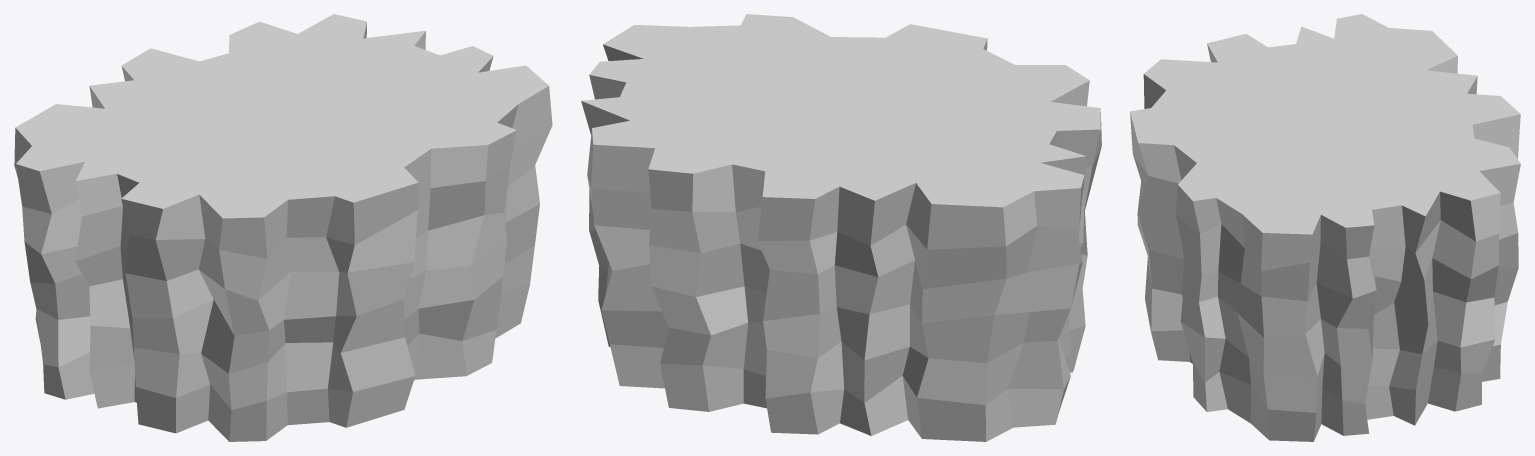
Rendered from obj_cliff.fbx.
3 renders of one model, left to right at view 1: azimuth 30°, elevation 25°; view 2: azimuth 150°, elevation 25°; view 3: azimuth 270°, elevation 25°, orthographic. The views are drawn at different scales.
Visible parts, largest first — view 1: obj_cliff; view 2: obj_cliff; view 3: obj_cliff.
Boxes of the visible parts, x1,y1,x2,y2 form: obj_cliff: (14,14,552,441); obj_cliff: (581,14,1101,441); obj_cliff: (1130,14,1520,441).
Bounding box in the file's own units: 12.21 × 5.65 × 9.15.
1 material, 1 textured.
